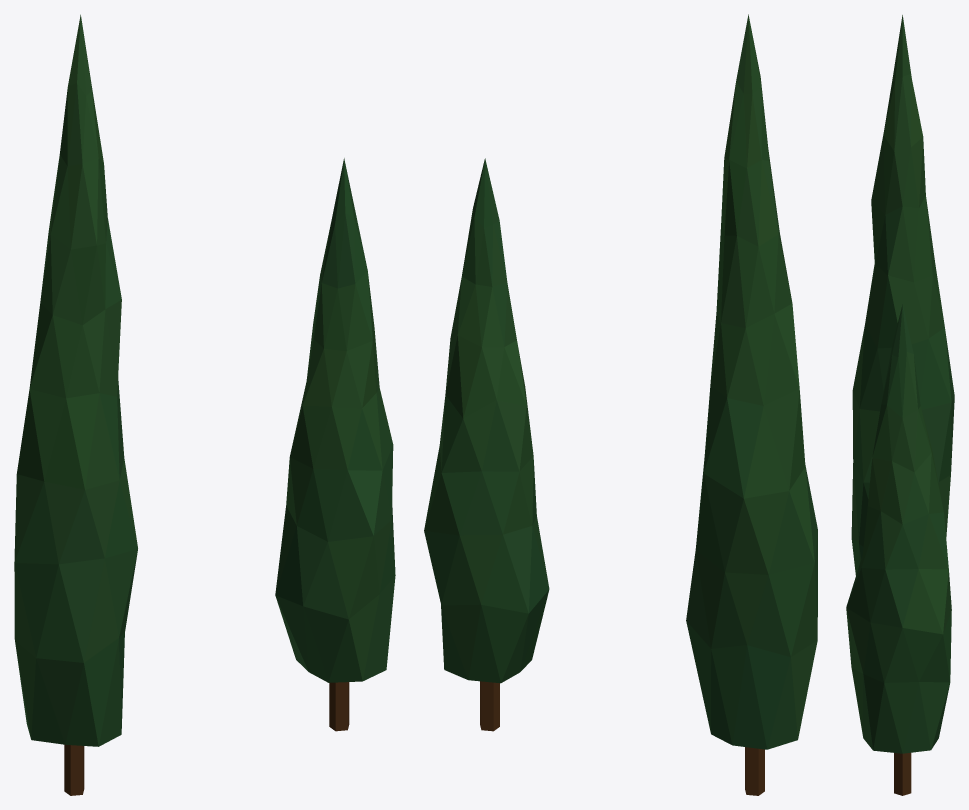
Rendered from cypress.glb.
The picture shows the model from 3 angles, left to right: view 1: azimuth 30°, elevation 25°; view 2: azimuth 150°, elevation 25°; view 3: azimuth 270°, elevation 25°; orthographic projection. The views are drawn at different scales.
Visible parts, largest first — view 1: cypress_a, cypress_b; view 2: cypress_a, cypress_b; view 3: cypress_b, cypress_a.
Boxes of the visible parts, bbox=[...] form: cypress_a: bbox=[14, 14, 137, 795]; cypress_b: bbox=[275, 158, 395, 731]; cypress_a: bbox=[686, 14, 817, 795]; cypress_b: bbox=[424, 158, 549, 731]; cypress_b: bbox=[846, 304, 951, 795]; cypress_a: bbox=[851, 15, 954, 575].
Size of the model in its own units: 5.7 by 11.2 by 1.65.
